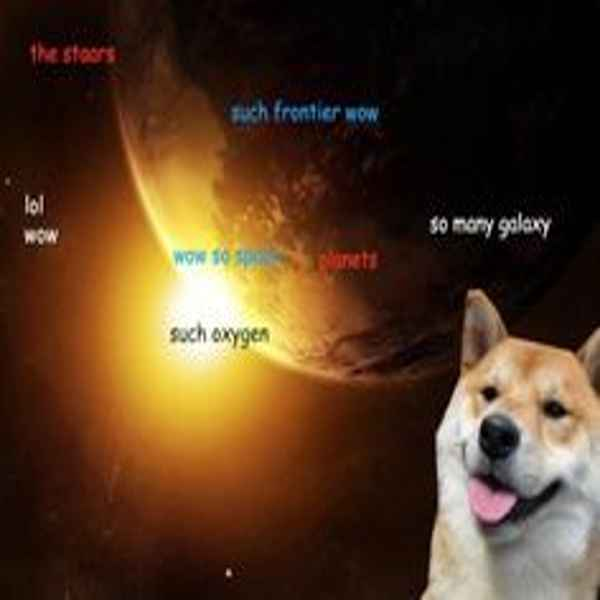doge: (413, 276, 600, 558)
